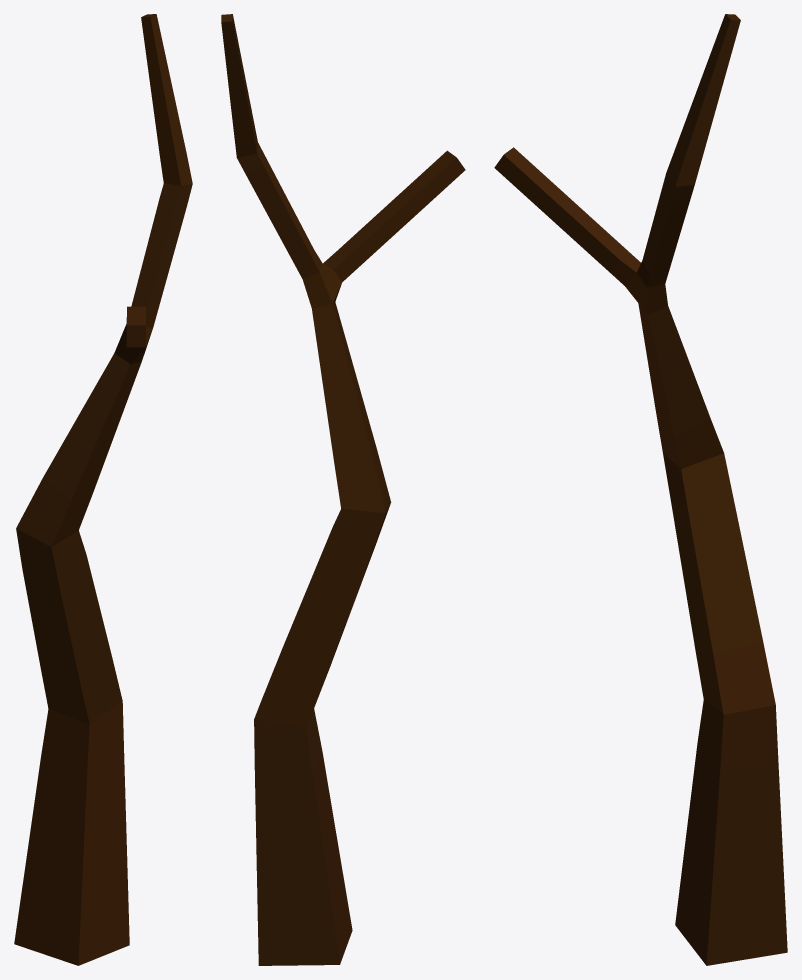
File: Tree2.3.fbx
The picture shows the model from 3 angles, left to right: view 1: azimuth 30°, elevation 25°; view 2: azimuth 150°, elevation 25°; view 3: azimuth 270°, elevation 25°; orthographic projection. The views are drawn at different scales.
Visible parts, largest first — view 1: Tree2.3; view 2: Tree2.3; view 3: Tree2.3.
Boxes of the visible parts, x1,y1,x2,y2 form: Tree2.3: [14, 14, 192, 965]; Tree2.3: [221, 14, 465, 965]; Tree2.3: [494, 14, 787, 965].
Size of the model in its own units: 105 by 568 by 156.
